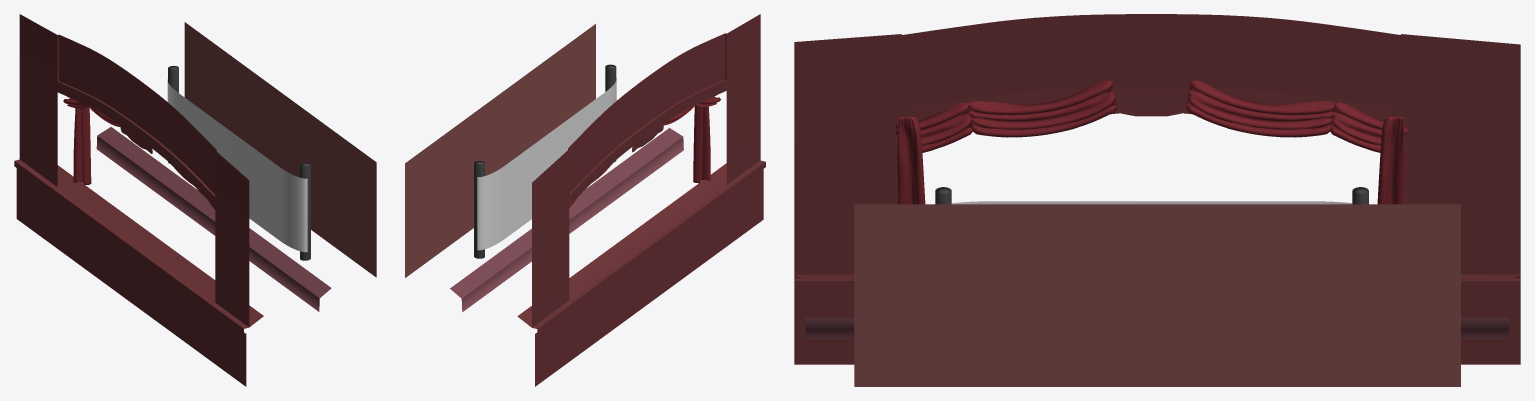
Rendered from theater_scen.fbx.
3 views of the same model, side by side, from view 1: azimuth 30°, elevation 25°; view 2: azimuth 150°, elevation 25°; view 3: azimuth 270°, elevation 25° (orthographic). The views are drawn at different scales.
Visible parts, largest first — view 1: theater, backround, backround scroller, theater back, curtans, scroller holders; view 2: theater, backround, backround scroller, theater back, curtans, scroller holders; view 3: backround, theater, curtans, theater back, backround scroller.
Part boxes in pixels (<box>): theater: <box>14,14,263,386</box>; backround: <box>184,22,376,277</box>; backround scroller: <box>167,79,307,252</box>; theater back: <box>96,127,331,311</box>; curtans: <box>63,96,215,209</box>; scroller holders: <box>168,66,310,260</box>; theater: <box>517,14,765,386</box>; backround: <box>405,24,595,277</box>; backround scroller: <box>477,78,616,250</box>; theater back: <box>450,128,683,311</box>; curtans: <box>569,95,720,207</box>; scroller holders: <box>474,64,616,258</box>; backround: <box>854,204,1460,386</box>; theater: <box>794,14,1520,364</box>; curtans: <box>895,80,1407,204</box>; theater back: <box>805,318,1509,339</box>; backround scroller: <box>951,201,1352,204</box>.
Size of the model in its own units: 217 by 307 by 570.
